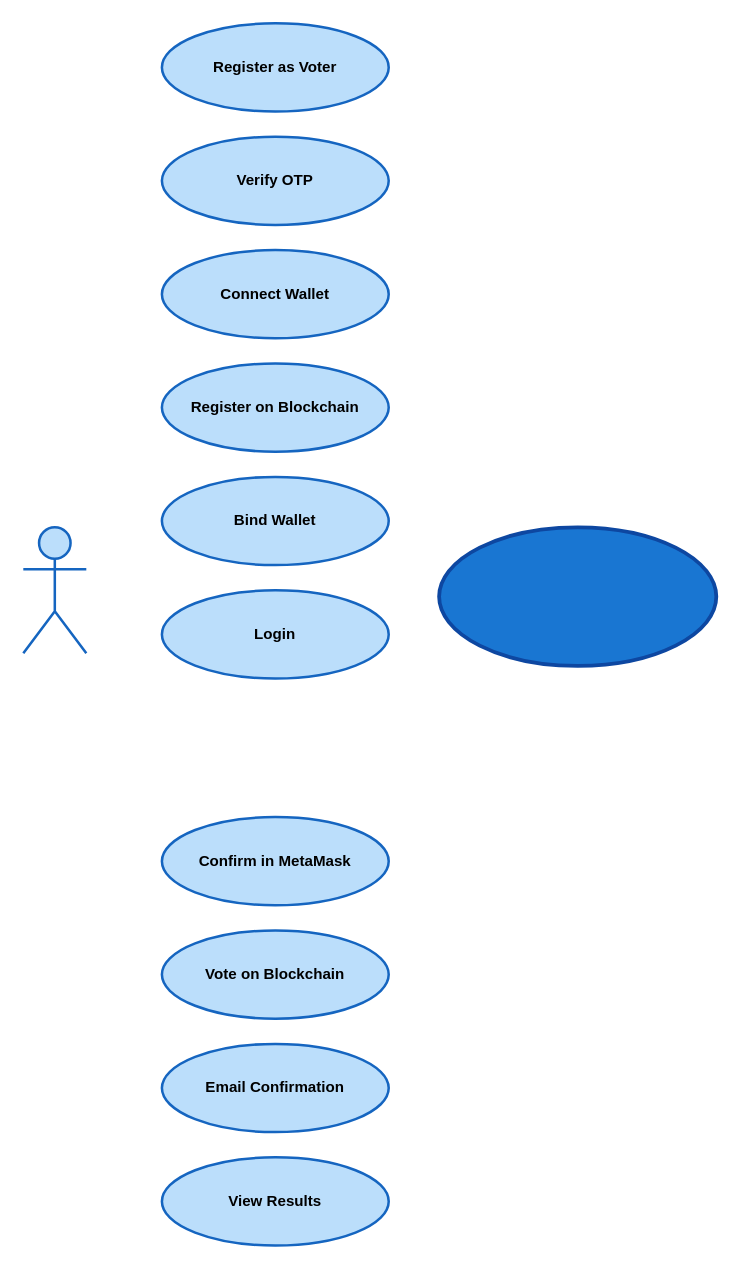
The diagram is 740 pixels wide and 1268 high, and some of its shapes have lost their labels. The shapes that lost their labels are listed below. From the top down, each one's centre as x and y in pixels, then its label:
At point (54, 589): "Voter (Student)".
At point (577, 596): "⑩ Cast Vote".
